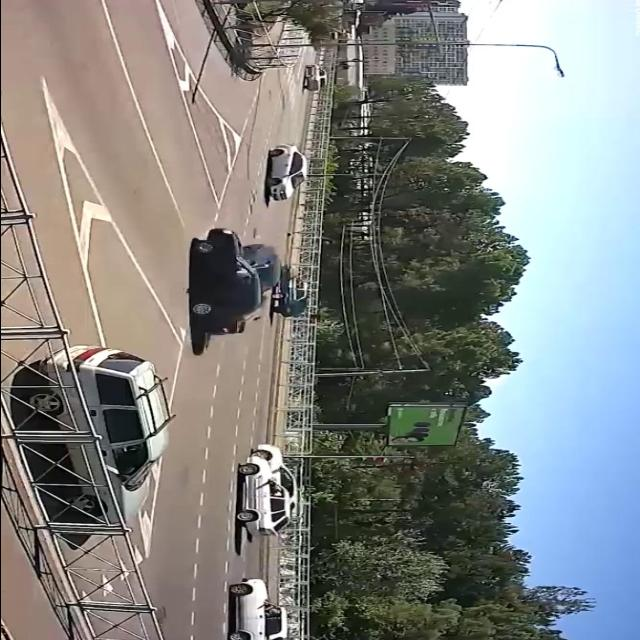accident: (183, 223, 289, 341)
non_accident: (231, 439, 301, 546)
